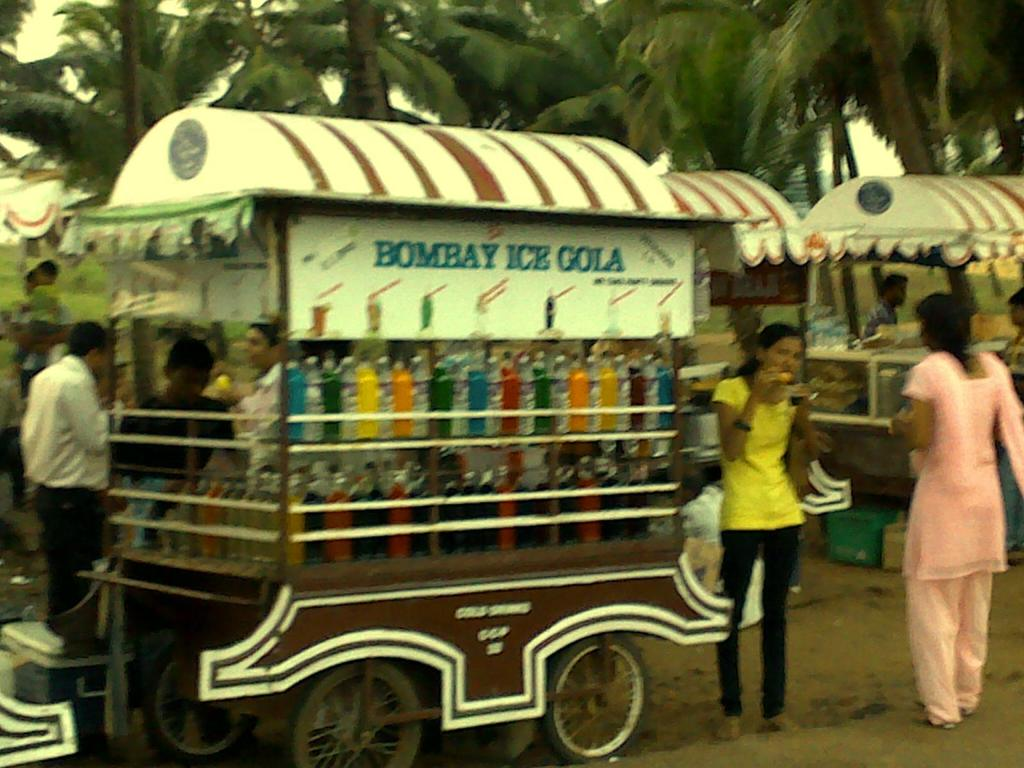Person: (121, 342, 230, 749), (18, 322, 110, 753), (242, 320, 290, 380)
